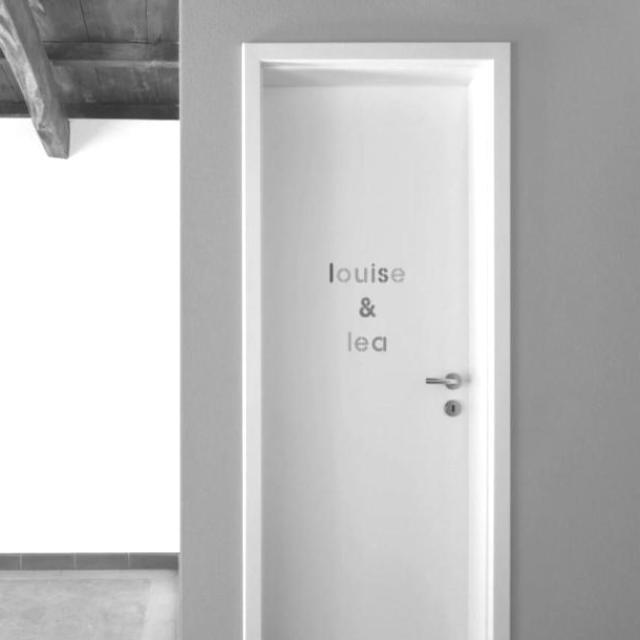door: (241, 41, 508, 639)
